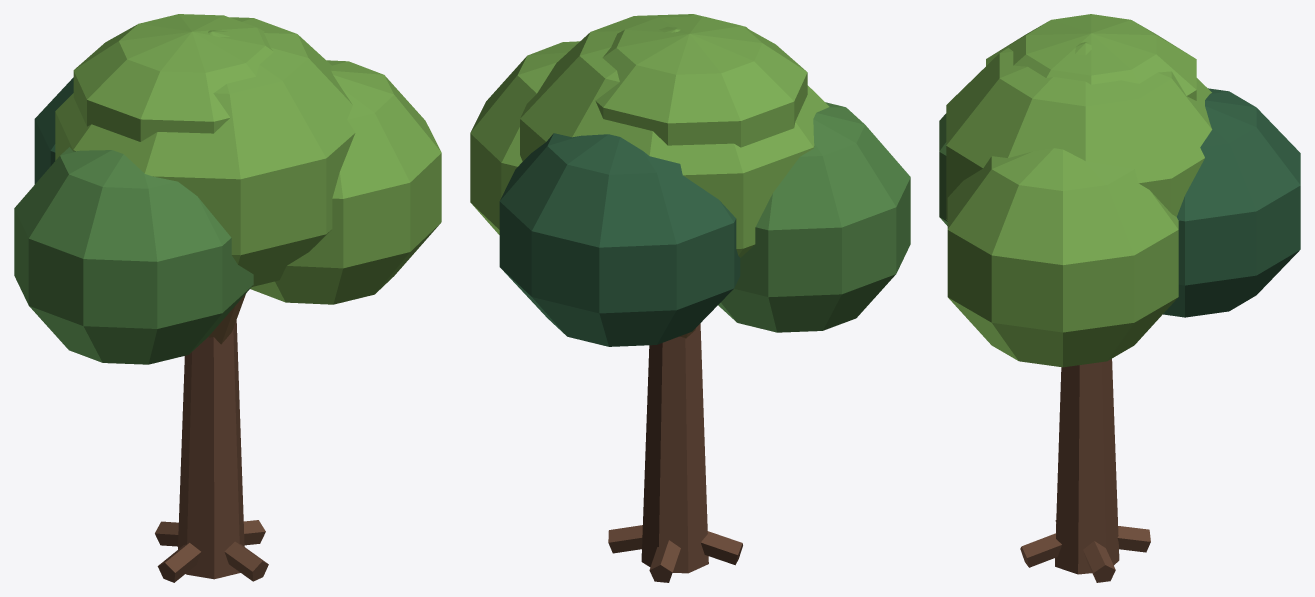
File: tree_oak.glb
3 renders of one model, left to right at view 1: azimuth 30°, elevation 25°; view 2: azimuth 150°, elevation 25°; view 3: azimuth 270°, elevation 25°, orthographic. The views are drawn at different scales.
Visible parts, largest first — view 1: Oak_round_leaf_crown.001, Oak_round_leaf_crown, Oak_round_leaf_crown.002, Oak_round_leaf_crown.004, Oak_trunk, Oak_round_leaf_crown.003, Oak_root.003, Oak_root.002, Oak_bough.002; view 2: Oak_round_leaf_crown.003, Oak_round_leaf_crown.001, Oak_round_leaf_crown.004, Oak_round_leaf_crown, Oak_trunk, Oak_round_leaf_crown.002, Oak_root.002, Oak_root.001, Oak_root; view 3: Oak_round_leaf_crown.002, Oak_round_leaf_crown, Oak_round_leaf_crown.003, Oak_trunk, Oak_round_leaf_crown.004, Oak_root.003, Oak_root, Oak_round_leaf_crown.001, Oak_root.001.
Boxes of the visible parts, x1,y1,x2,y2 form: Oak_round_leaf_crown.001: (14, 147, 253, 364); Oak_round_leaf_crown: (55, 17, 355, 286); Oak_round_leaf_crown.002: (250, 60, 441, 304); Oak_round_leaf_crown.004: (73, 14, 273, 141); Oak_trunk: (178, 320, 244, 579); Oak_round_leaf_crown.003: (34, 77, 73, 184); Oak_root.003: (224, 541, 268, 581); Oak_root.002: (157, 542, 201, 582); Oak_bough.002: (208, 294, 245, 344); Oak_round_leaf_crown.003: (499, 133, 740, 346); Oak_round_leaf_crown.001: (718, 102, 910, 332); Oak_round_leaf_crown.004: (595, 16, 807, 147); Oak_round_leaf_crown: (520, 14, 829, 257); Oak_trunk: (641, 323, 708, 573); Oak_round_leaf_crown.002: (470, 41, 579, 234); Oak_root.002: (700, 531, 742, 565); Oak_root.001: (649, 540, 680, 582); Oak_root: (608, 525, 642, 553); Oak_round_leaf_crown.002: (947, 148, 1178, 367); Oak_round_leaf_crown: (946, 42, 1212, 220); Oak_round_leaf_crown.003: (1163, 88, 1300, 317); Oak_trunk: (1055, 359, 1119, 574); Oak_round_leaf_crown.004: (986, 14, 1196, 100); Oak_root.003: (1020, 533, 1061, 567); Oak_root: (1083, 541, 1115, 582); Oak_round_leaf_crown.001: (939, 113, 947, 225); Oak_root.001: (1117, 526, 1150, 552).
Bounding box in the file's own units: 2.41 × 3.05 × 1.92.
